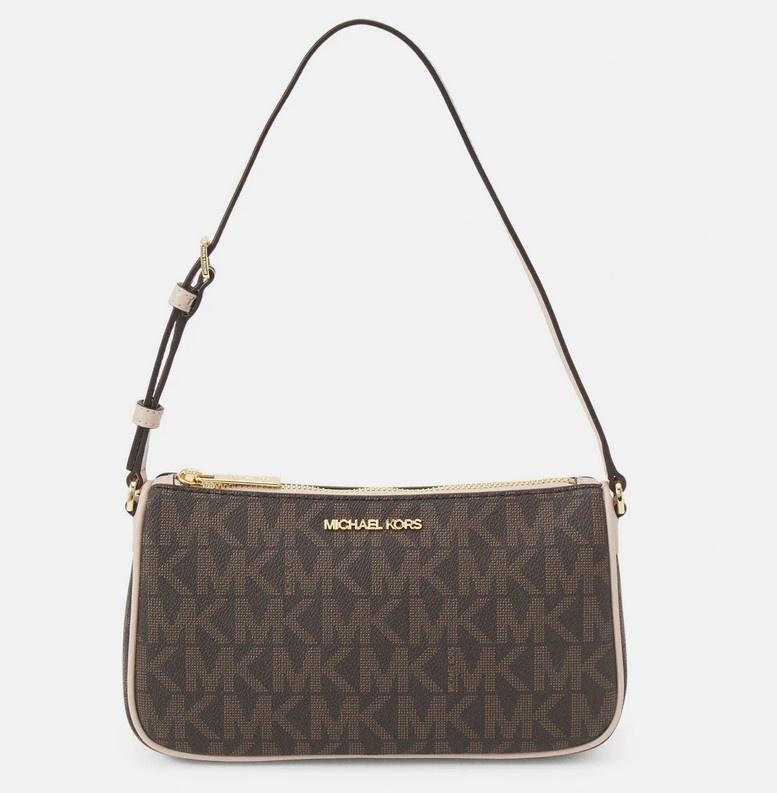MICHAEL-KORS: (324, 518, 422, 529)
